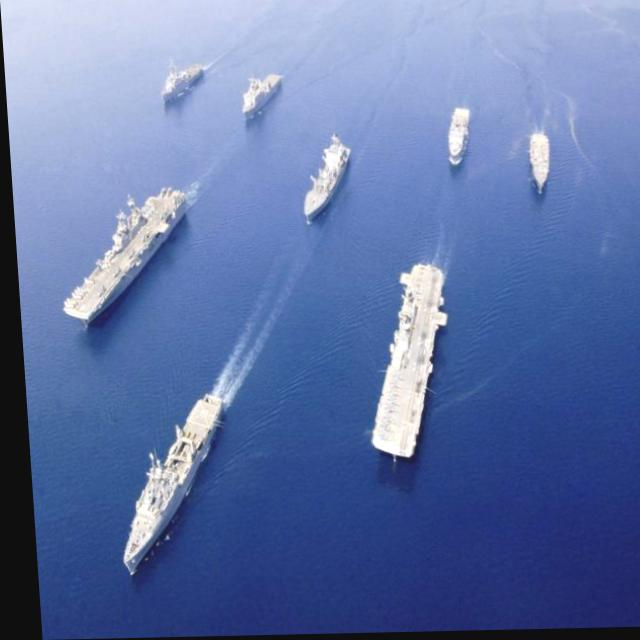ship2: (116, 392, 218, 577), (58, 187, 187, 327), (365, 266, 443, 461), (299, 134, 350, 229), (159, 57, 205, 110), (238, 73, 282, 123), (524, 129, 549, 202), (444, 110, 470, 171)
